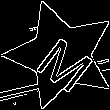M_NE: (26, 21, 96, 89)
